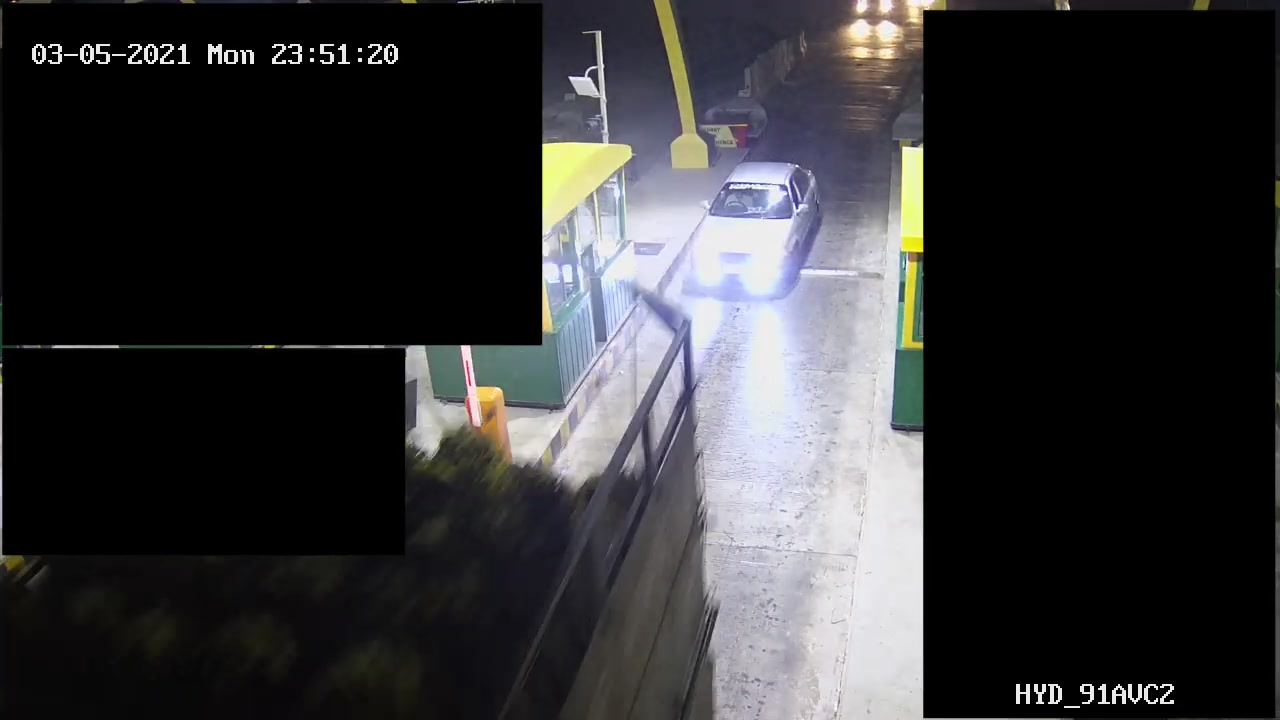F1: (687, 159, 826, 293)
